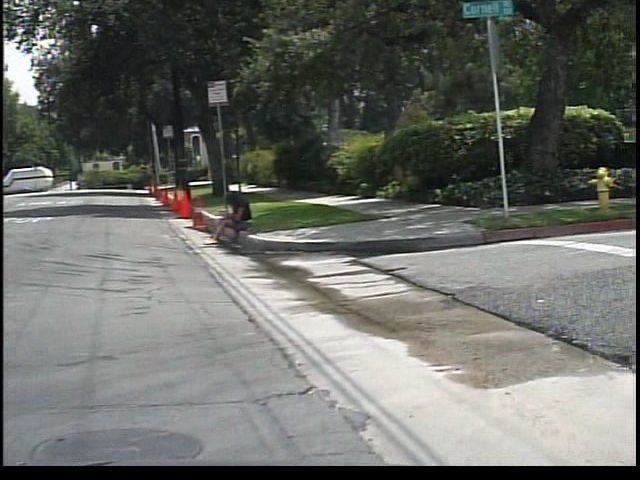person: (209, 190, 266, 247)
